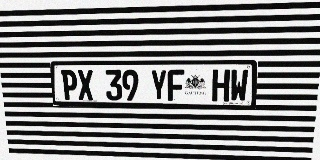3: (105, 70, 122, 100)
9: (122, 70, 139, 101)
F: (167, 69, 184, 101)
H: (212, 69, 230, 101)
P: (61, 70, 78, 100)
W: (229, 69, 248, 102)
X: (77, 70, 94, 100)
Y: (150, 69, 167, 101)
